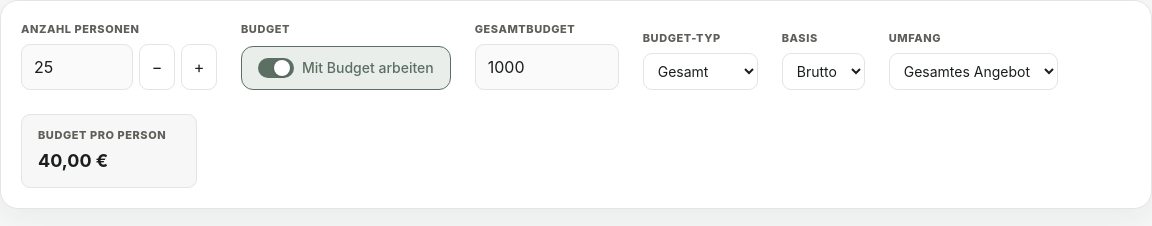
Test: TopControls budget input › allows a temporary empty value and commits it to zero on blur
The image size is (1152, 226).
Clear the field labelled "Gesamtbudget": (547, 66) [475,44,619,90]
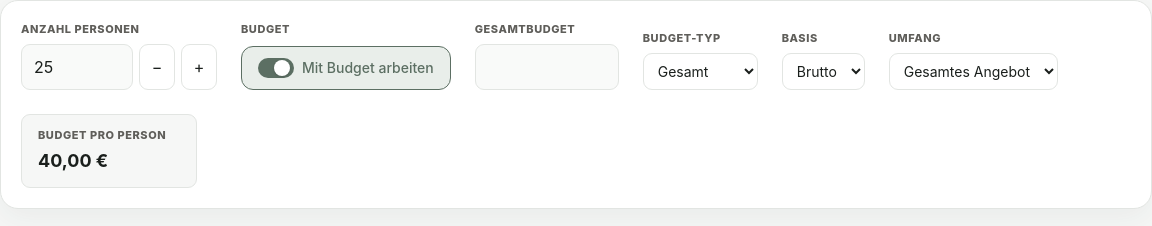
Leave the field labelled "Gesamtbudget", box [475,44,619,90]
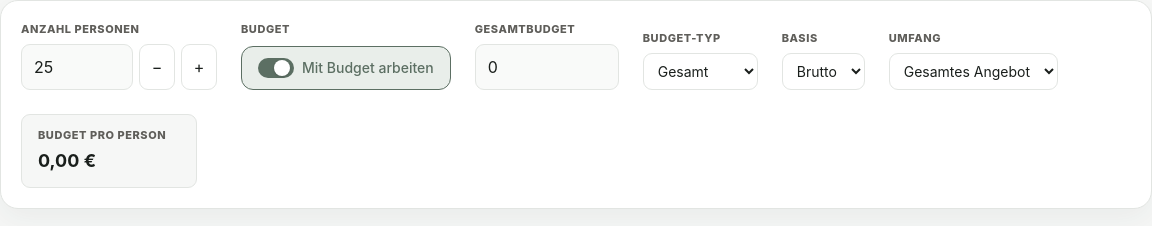
Check: the field labelled "Gesamtbudget" holds "0", box [475,44,619,90]
